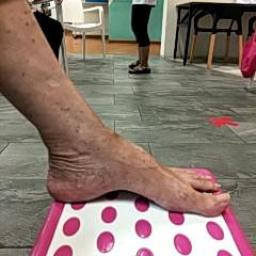Medial View -Left Foot-: (28, 93, 247, 230)
